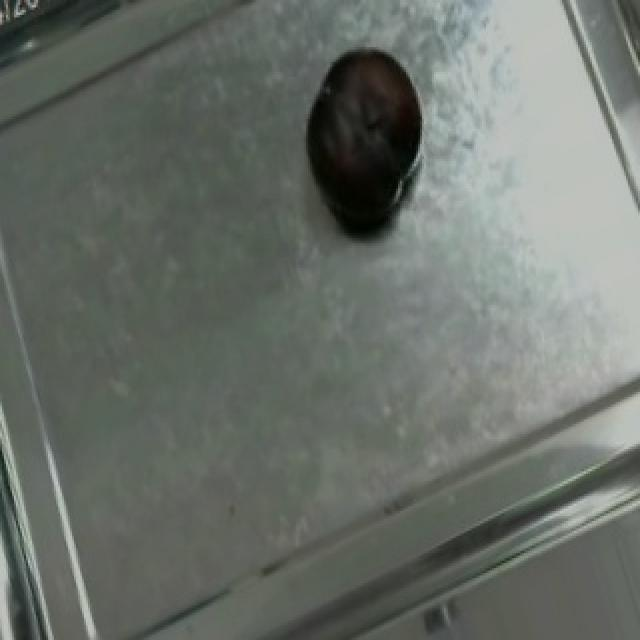Fruit: (282, 27, 446, 248)
